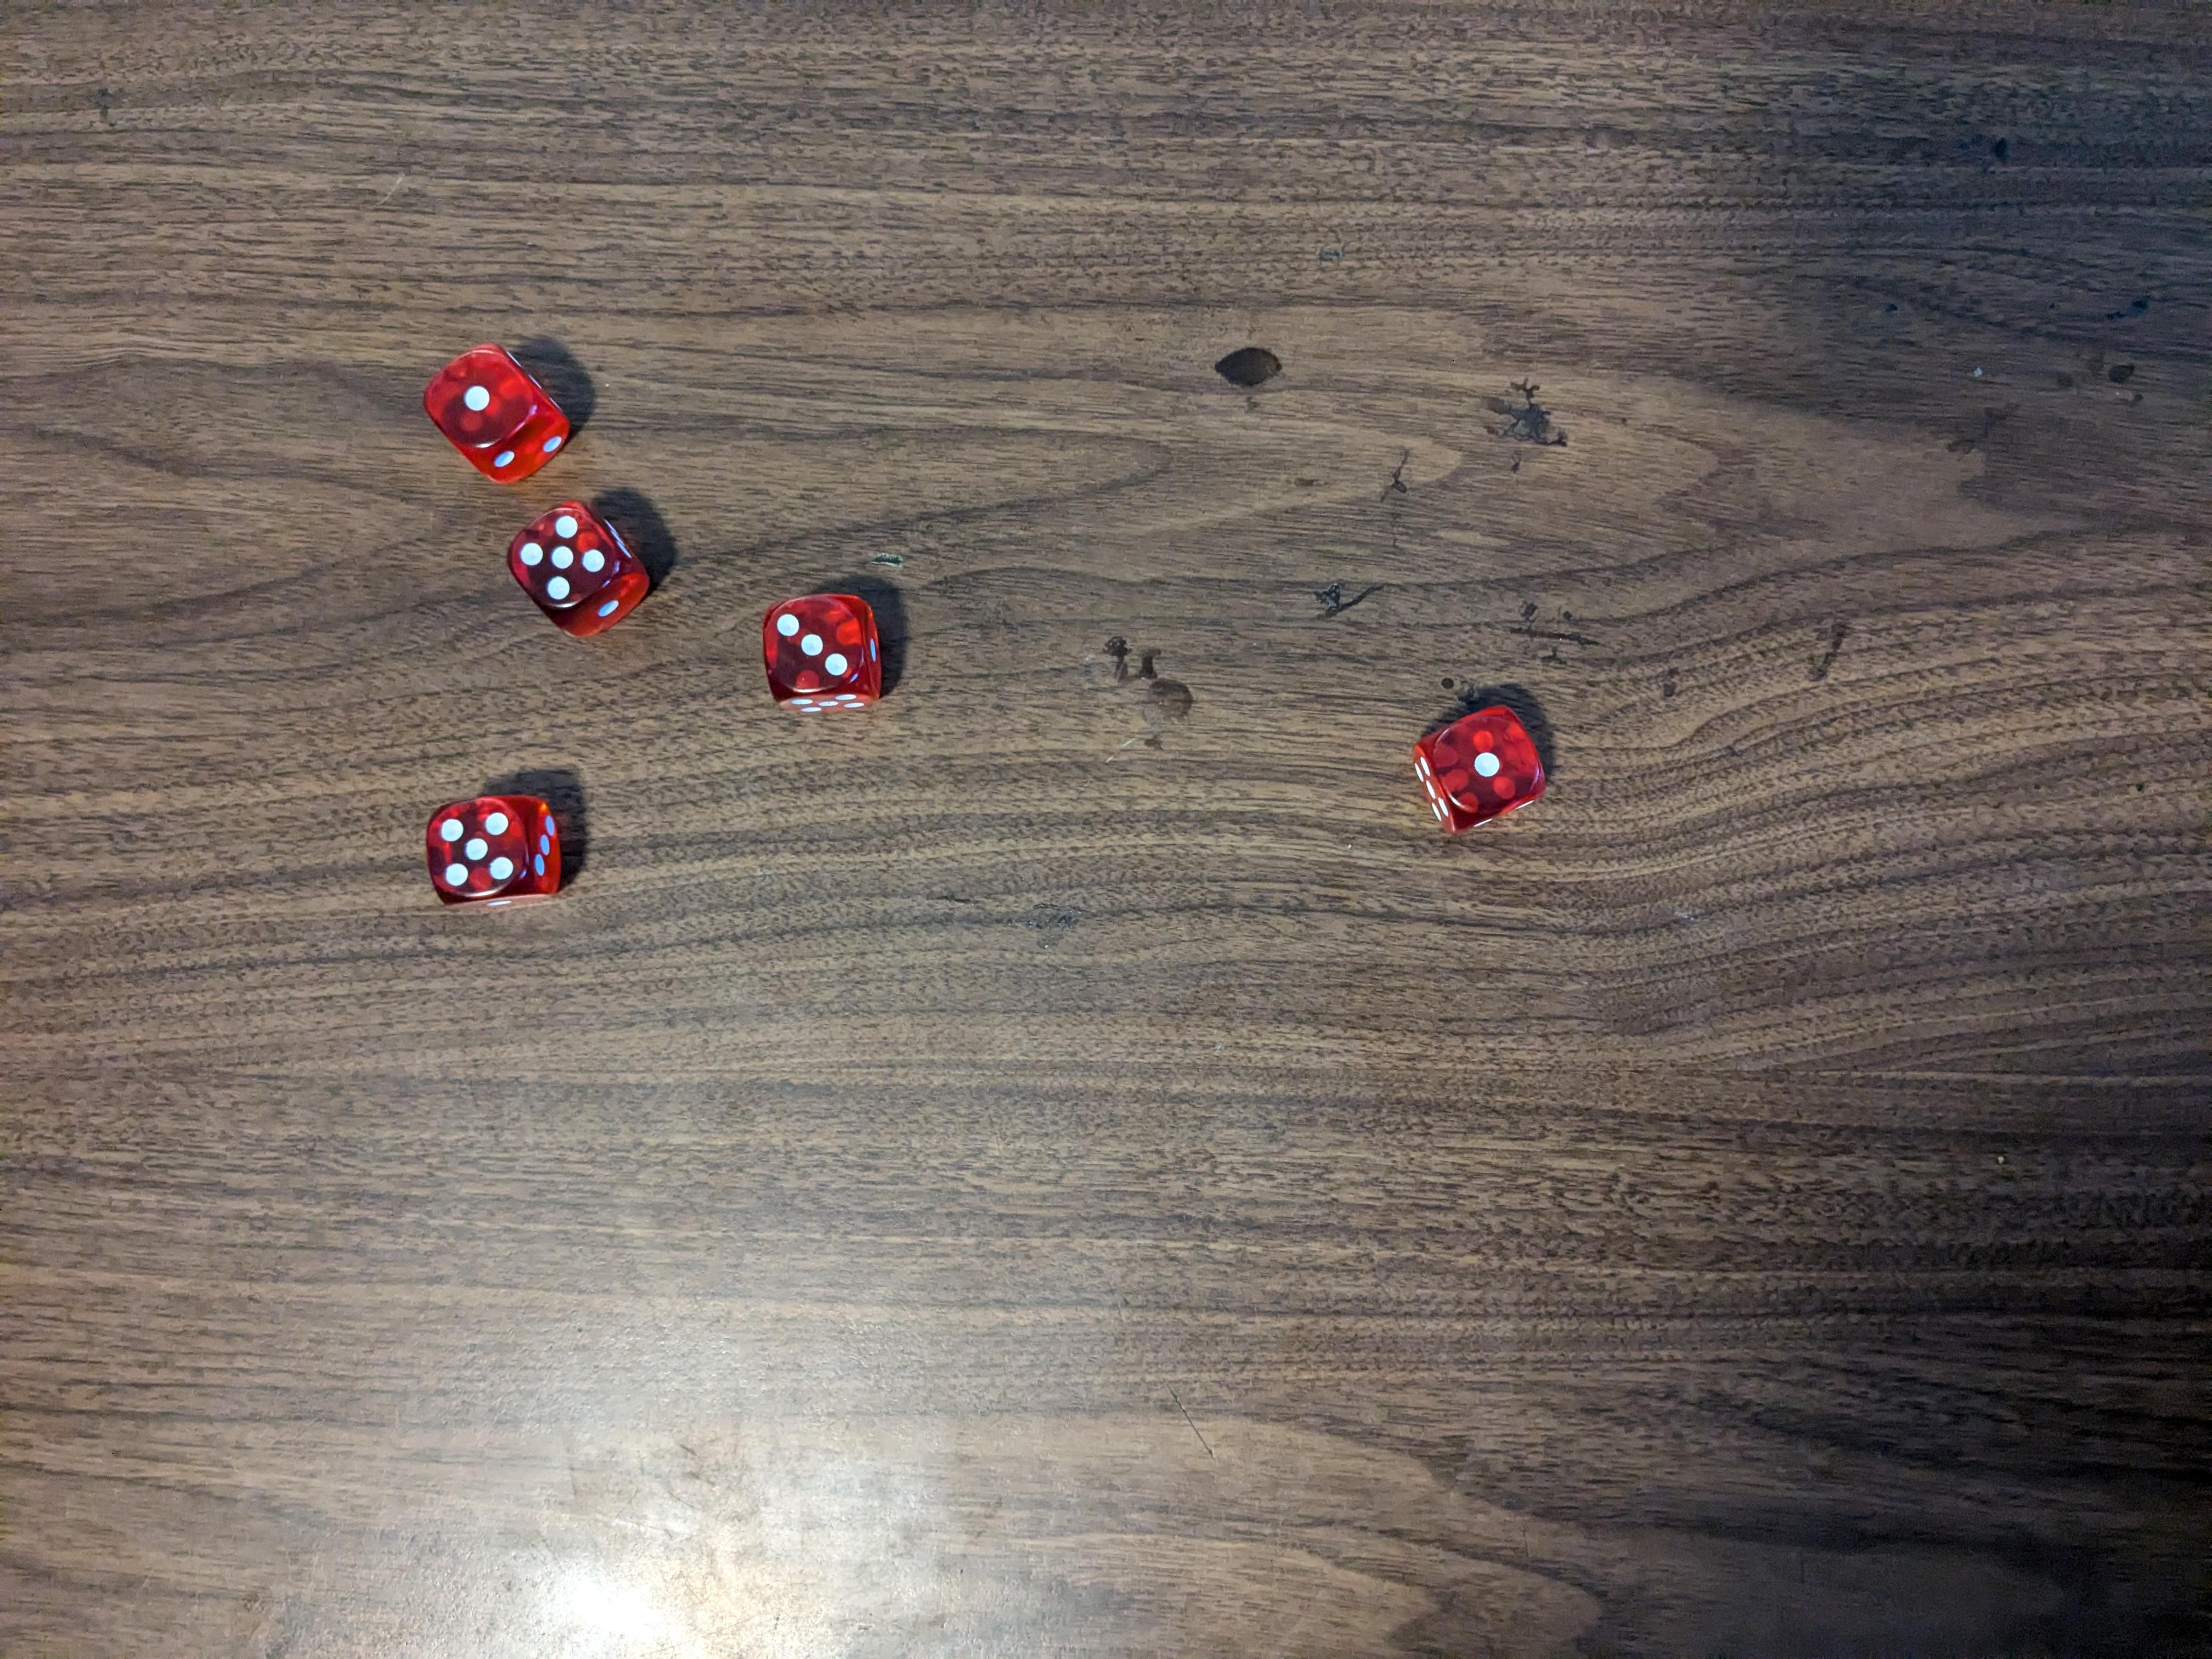five: (503, 504, 658, 648), (421, 791, 568, 917)
one: (420, 345, 566, 481), (1414, 704, 1550, 836)
three: (761, 589, 887, 716)
